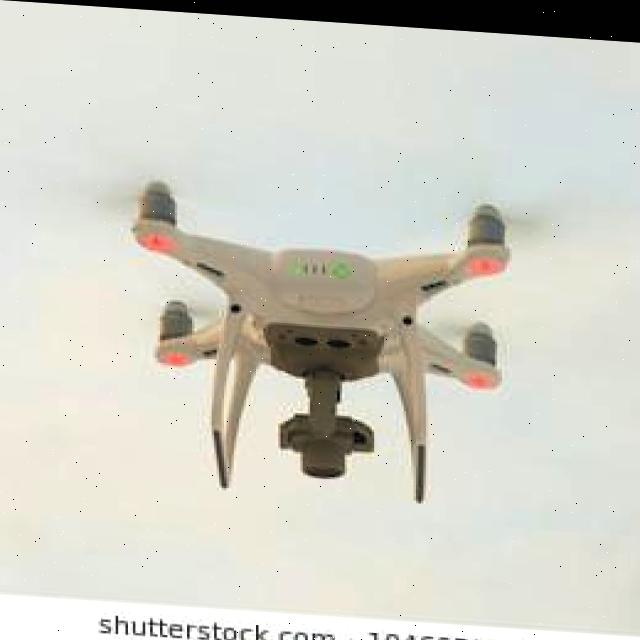drone: (48, 110, 590, 544)
